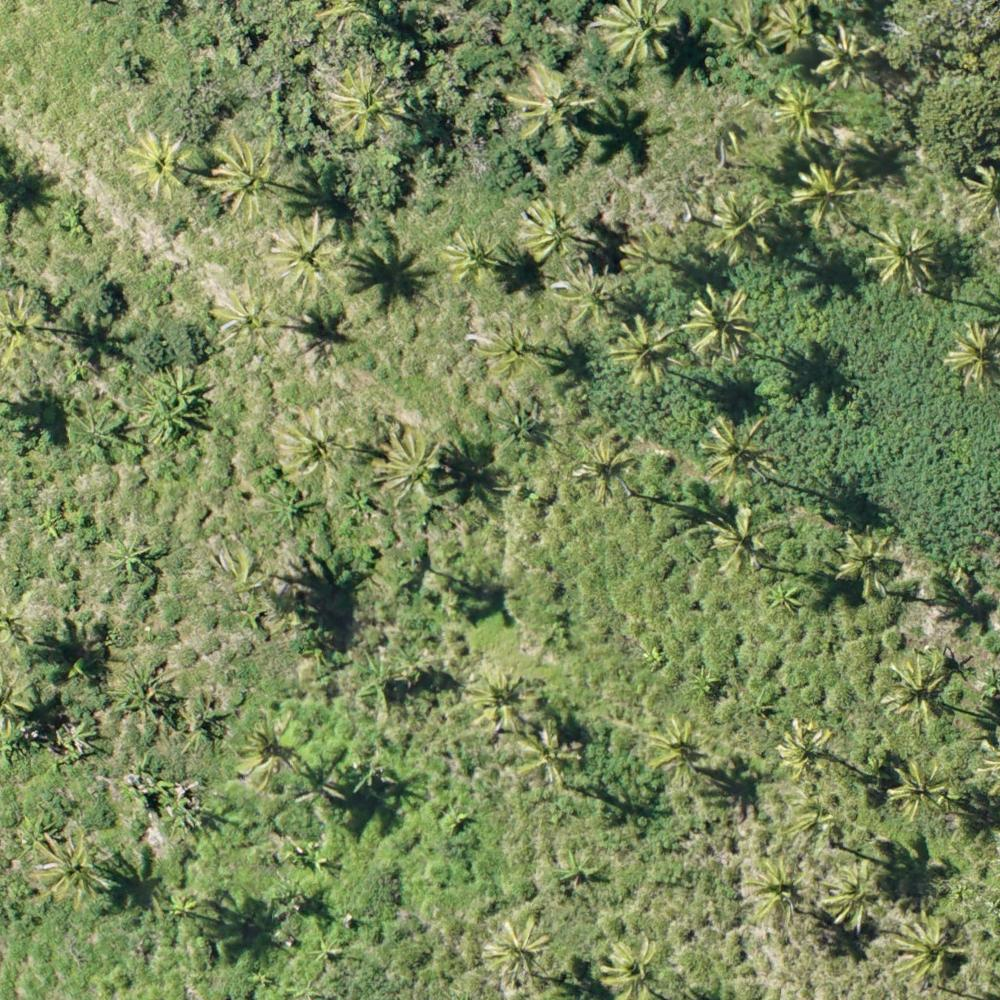not plam: (57, 396, 136, 469), (385, 841, 460, 917), (92, 522, 169, 596), (547, 562, 620, 640), (166, 7, 242, 81), (9, 12, 85, 85), (864, 375, 938, 448), (914, 456, 989, 527), (920, 10, 995, 81), (380, 925, 458, 993), (144, 374, 215, 445), (141, 770, 218, 835), (29, 927, 100, 994), (632, 592, 705, 657), (65, 198, 131, 266)
